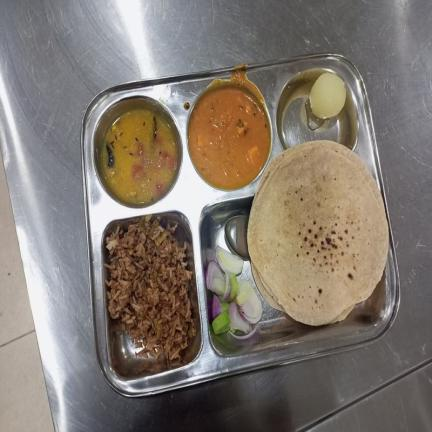Chana Dal: (101, 106, 178, 204)
Chhaina: (309, 72, 347, 121)
Fried Rice: (105, 214, 196, 362)
Paneer: (190, 86, 269, 189)
Plate: (80, 52, 402, 399)
Roti: (246, 139, 390, 327)
Salad: (206, 246, 264, 342)
